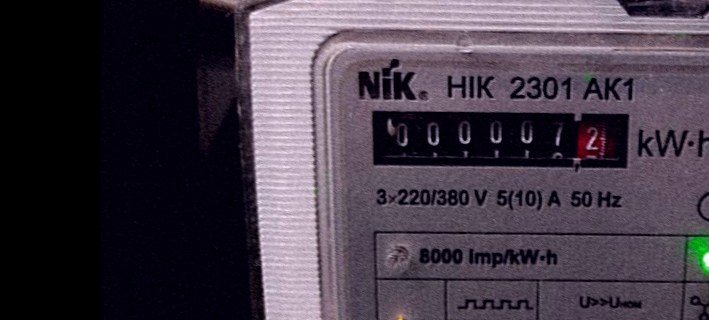0: (489, 117, 507, 145), (458, 117, 475, 146), (395, 120, 413, 147), (427, 119, 444, 147), (521, 118, 537, 146)
2: (586, 125, 603, 152)
7: (552, 118, 568, 149)
screen: (361, 98, 644, 180)
